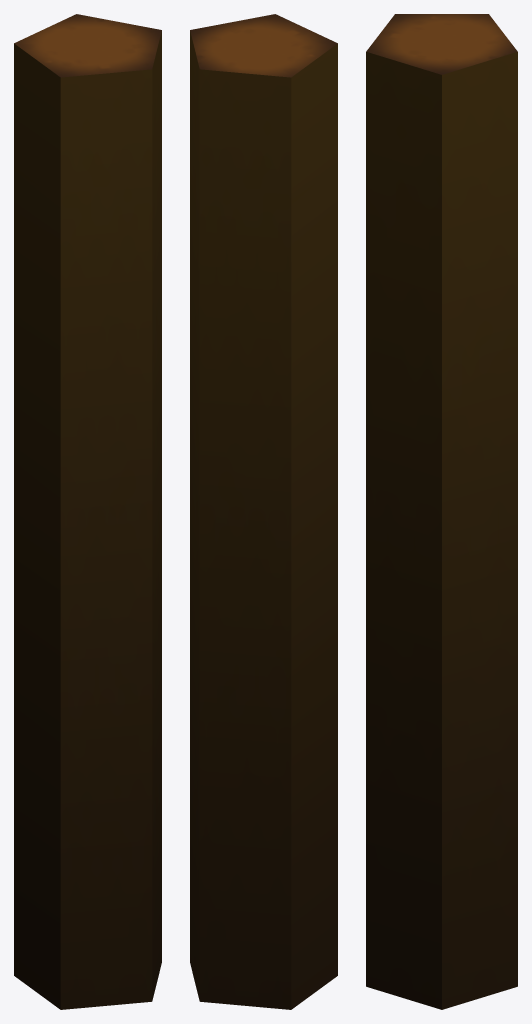
Rendered from Stick_A.fbx.
3 renders of one model, left to right at view 1: azimuth 30°, elevation 25°; view 2: azimuth 150°, elevation 25°; view 3: azimuth 270°, elevation 25°, orthographic.
Visible parts, largest first — view 1: Stick_A; view 2: Stick_A; view 3: Stick_A.
Boxes of the visible parts, x1,y1,x2,y2 form: Stick_A: [14, 14, 161, 1009]; Stick_A: [190, 14, 337, 1009]; Stick_A: [366, 14, 517, 1009].
Bounding box in the file's own units: 9.16 × 65.47 × 9.63.
